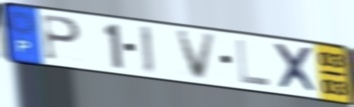1: (102, 22, 125, 71)
I: (137, 24, 157, 76)
L: (235, 38, 273, 89)
P: (40, 13, 83, 64)
V: (174, 30, 220, 82)
X: (271, 42, 322, 96)
